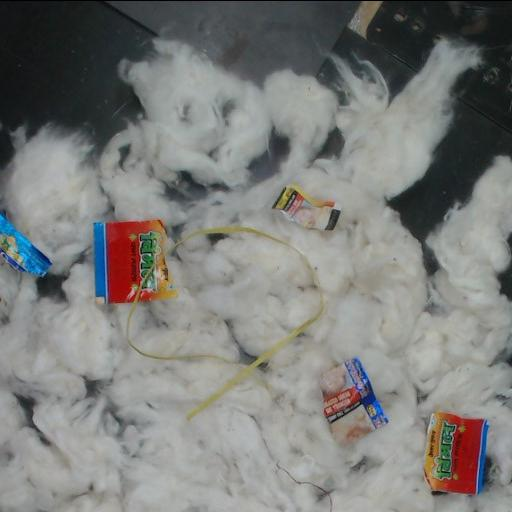conveyor belt: (0, 1, 511, 272), (251, 137, 287, 181), (16, 394, 35, 428), (37, 275, 63, 297), (499, 267, 511, 297)
cotton: (0, 39, 511, 512)
packet: (93, 219, 177, 302), (321, 358, 387, 446), (424, 412, 487, 493), (0, 213, 51, 275), (272, 185, 341, 230)
thread: (125, 220, 323, 420), (276, 462, 332, 512)
